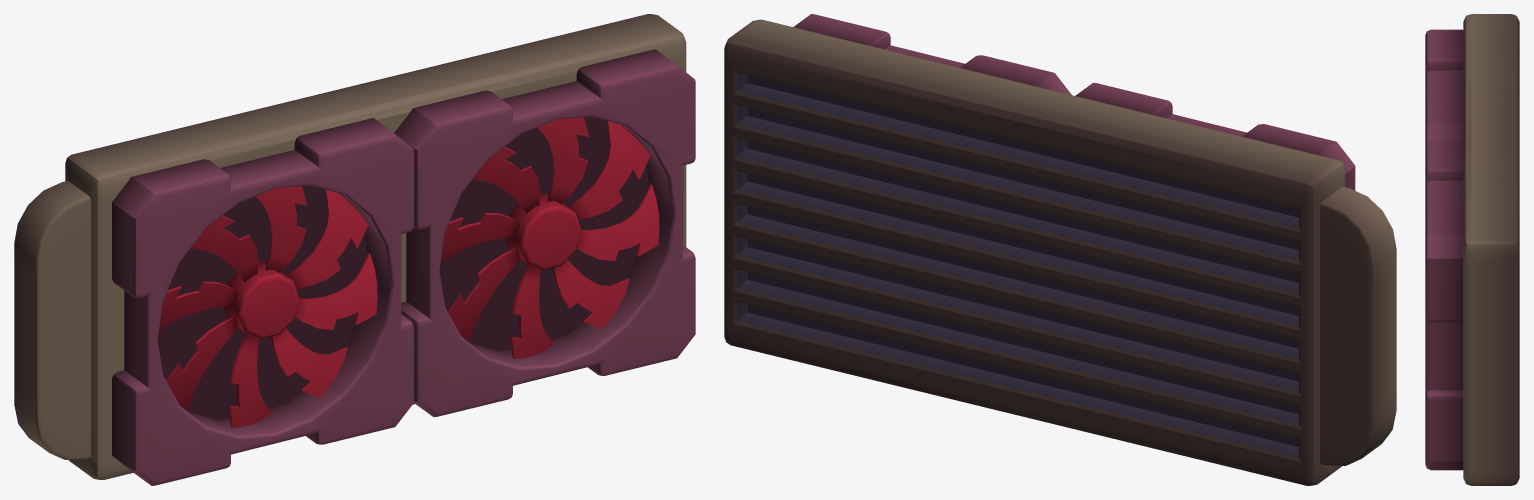
Rendered from Cooling_systems_lvl_08_V03.fbx.
The picture shows the model from 3 angles, left to right: view 1: azimuth 30°, elevation 25°; view 2: azimuth 150°, elevation 25°; view 3: azimuth 270°, elevation 25°; orthographic projection. The views are drawn at different scales.
Parts seen in each view (by area): view 1: Body_Cooling, Fan_Cooling_01, Fan_Cooling_01.001; view 2: Body_Cooling; view 3: Body_Cooling.
Part boxes in pixels (<box>): Body_Cooling: <box>14,14,695,485</box>; Fan_Cooling_01: <box>159,186,377,427</box>; Fan_Cooling_01.001: <box>441,117,659,359</box>; Body_Cooling: <box>724,14,1396,485</box>; Body_Cooling: <box>1425,14,1519,485</box>.
Bounding box in the file's own units: 119 × 53.89 × 18.72.
